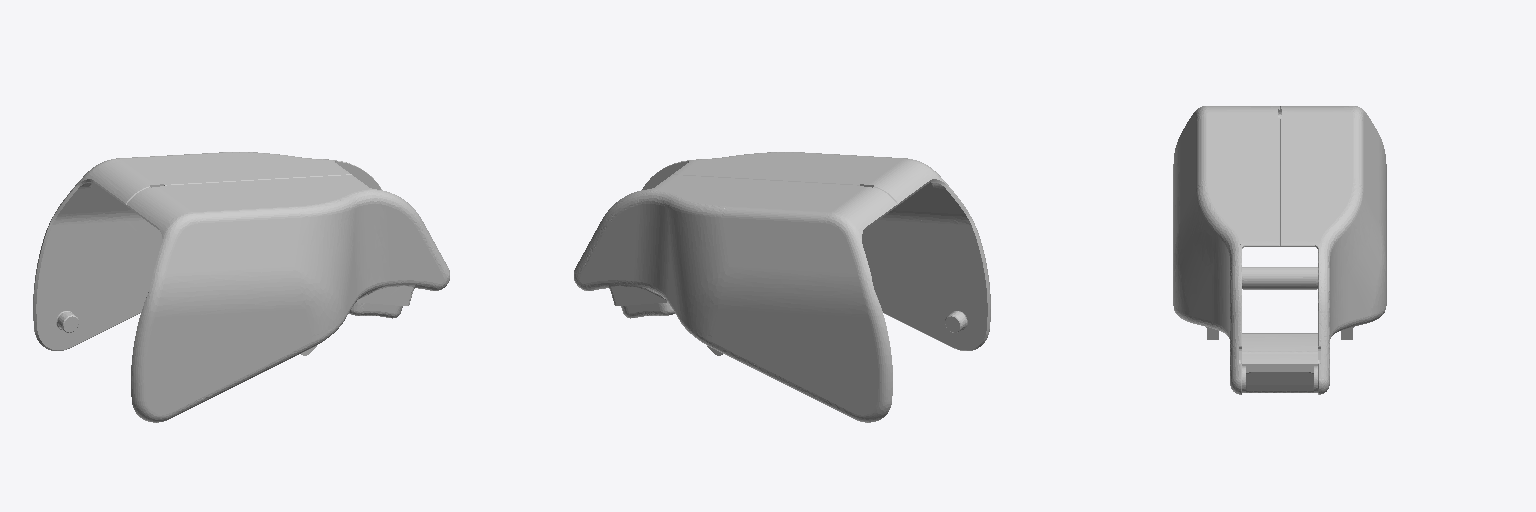
Rendered from finger_H_UV_100430.obj.
3 views of the same model, side by side, from view 1: azimuth 30°, elevation 25°; view 2: azimuth 150°, elevation 25°; view 3: azimuth 270°, elevation 25° (orthographic).
Parts seen in each view (by area): view 1: finger_H_20K_finger_H_20KShape; view 2: finger_H_20K_finger_H_20KShape; view 3: finger_H_20K_finger_H_20KShape.
Boxes of the visible parts, <box> form: finger_H_20K_finger_H_20KShape: <box>33,152,449,422</box>; finger_H_20K_finger_H_20KShape: <box>574,152,990,422</box>; finger_H_20K_finger_H_20KShape: <box>1173,106,1386,394</box>.
Bounding box in the file's own units: 0.1045 × 0.0547 × 0.0555.